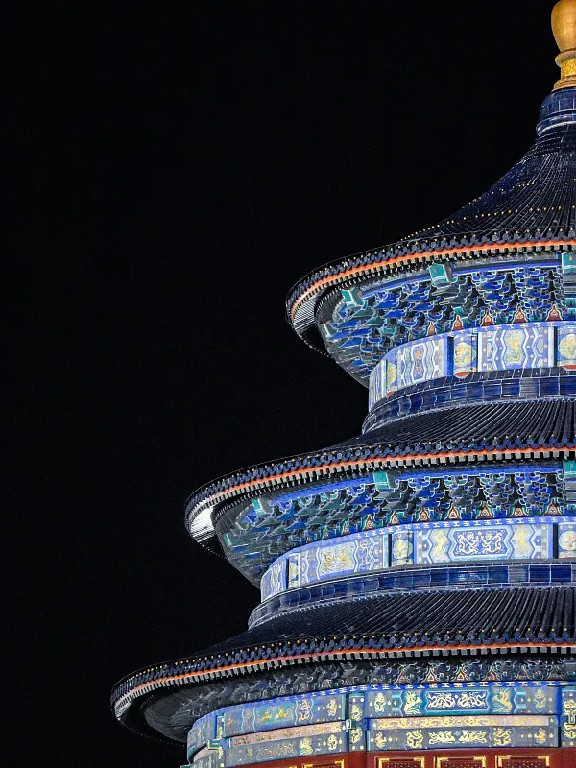Heaven: (107, 4, 576, 768)
